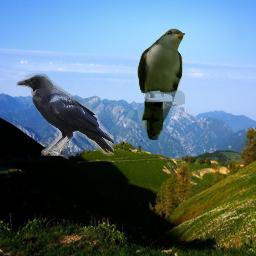Crow: (16, 73, 114, 156)
Cuckoo: (137, 28, 185, 140)
